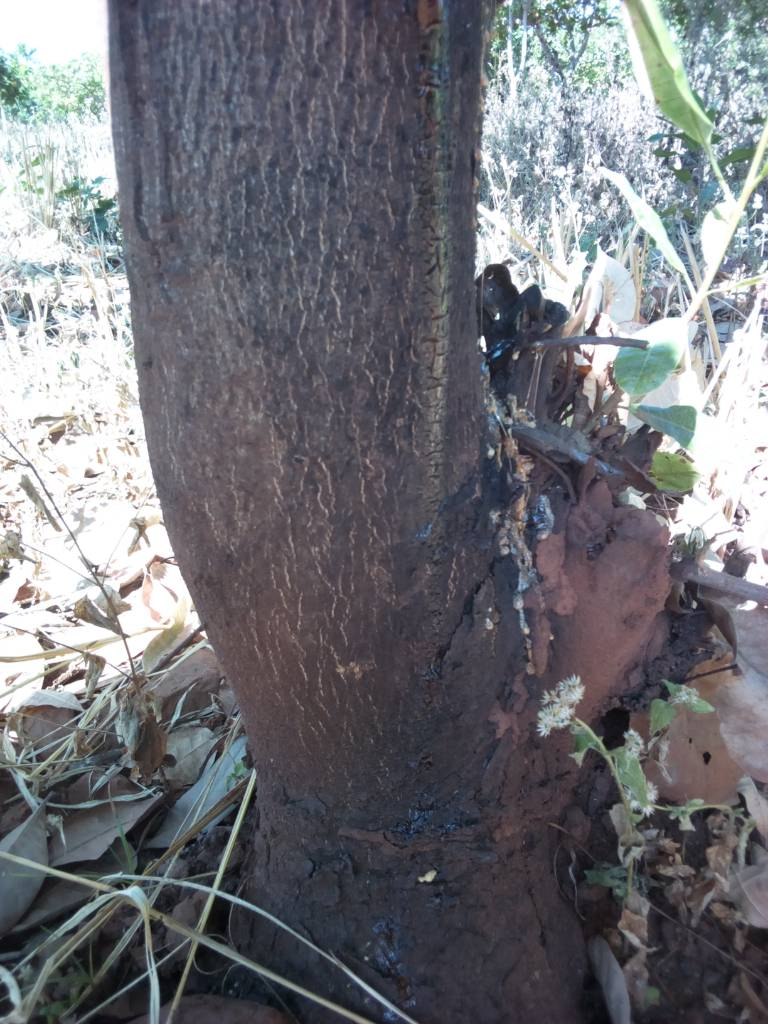Gommose: (265, 794, 511, 977), (418, 450, 532, 741)
